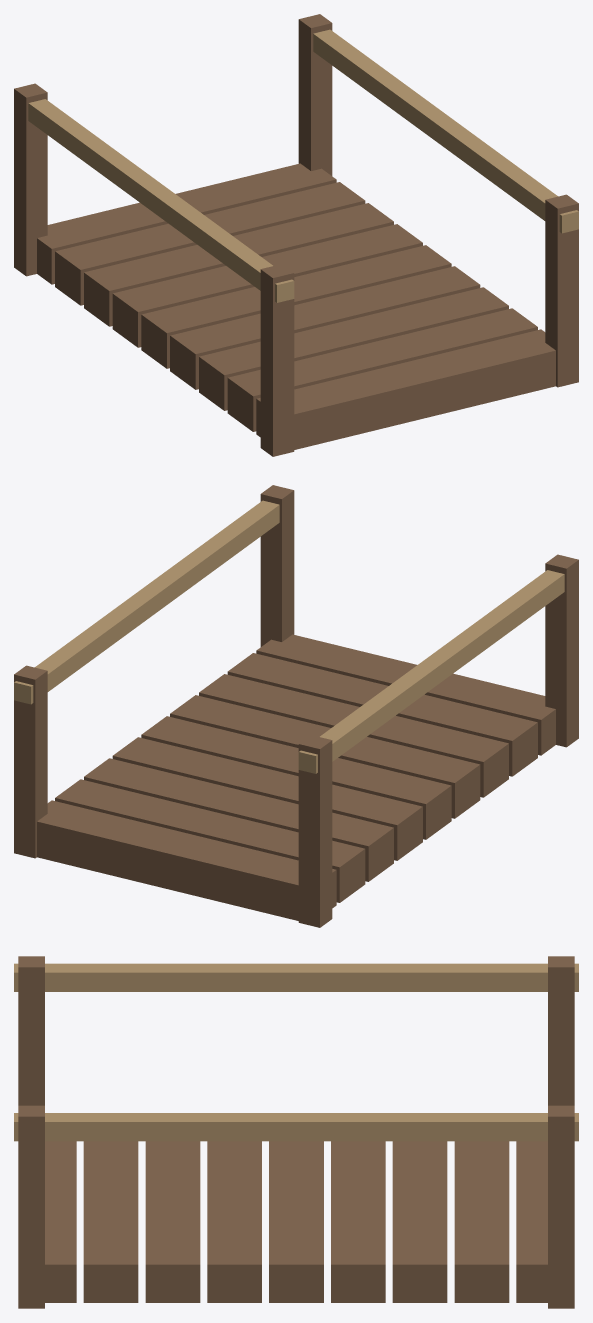
File: bridge.glb
The picture shows the model from 3 angles, top to bottom: view 1: azimuth 30°, elevation 25°; view 2: azimuth 150°, elevation 25°; view 3: azimuth 270°, elevation 25°; orthographic projection. The views are drawn at different scales.
Parts seen in each view (by area): view 1: bridge; view 2: bridge; view 3: bridge.
Boxes of the visible parts, x1,y1,x2,y2 form: bridge: (14, 14, 578, 456); bridge: (14, 485, 578, 927); bridge: (14, 956, 578, 1308).
Size of the model in its own units: 2.15 by 1.2 by 3.2.
